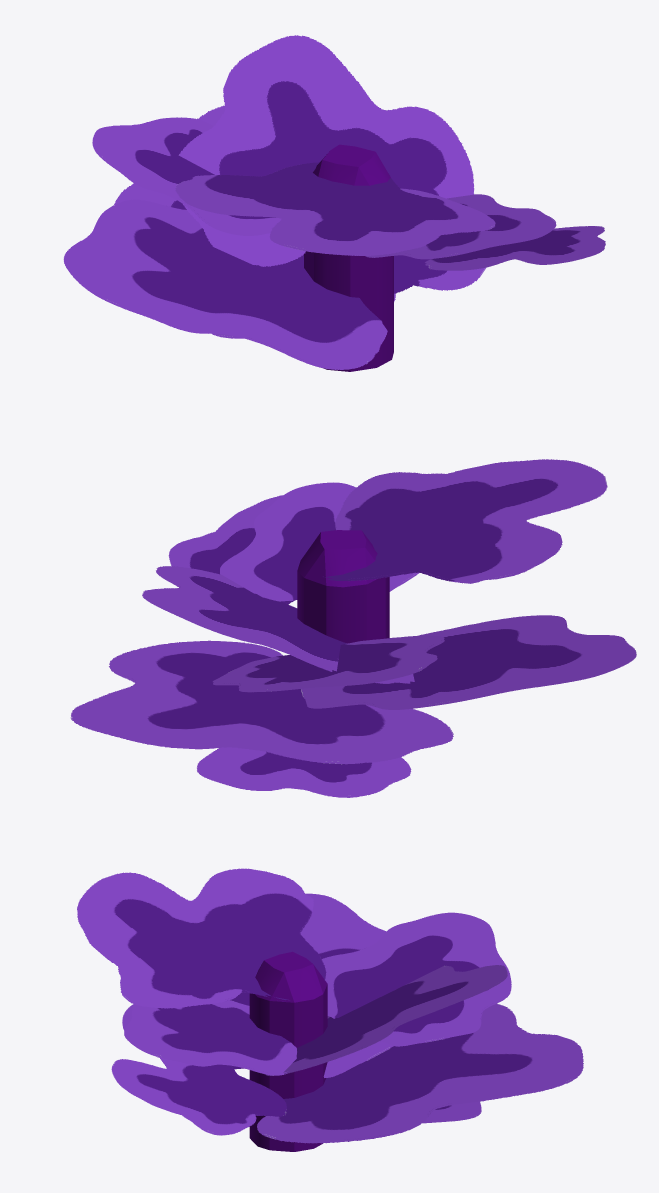
The model's file is CoralB.fbx.
3 views of the same model, one above another, from view 1: azimuth 30°, elevation 25°; view 2: azimuth 150°, elevation 25°; view 3: azimuth 270°, elevation 25° (orthographic). The views are drawn at different scales.
Visible parts, largest first — view 1: CoralBGroup1; view 2: CoralBGroup1; view 3: CoralBGroup1.
Boxes of the visible parts, <box> form: CoralBGroup1: <box>63,35,605,371</box>; CoralBGroup1: <box>70,459,636,797</box>; CoralBGroup1: <box>77,868,583,1151</box>.
Bounding box in the file's own units: 1.08 × 0.3975 × 1.15.
4 materials, 3 textured.
